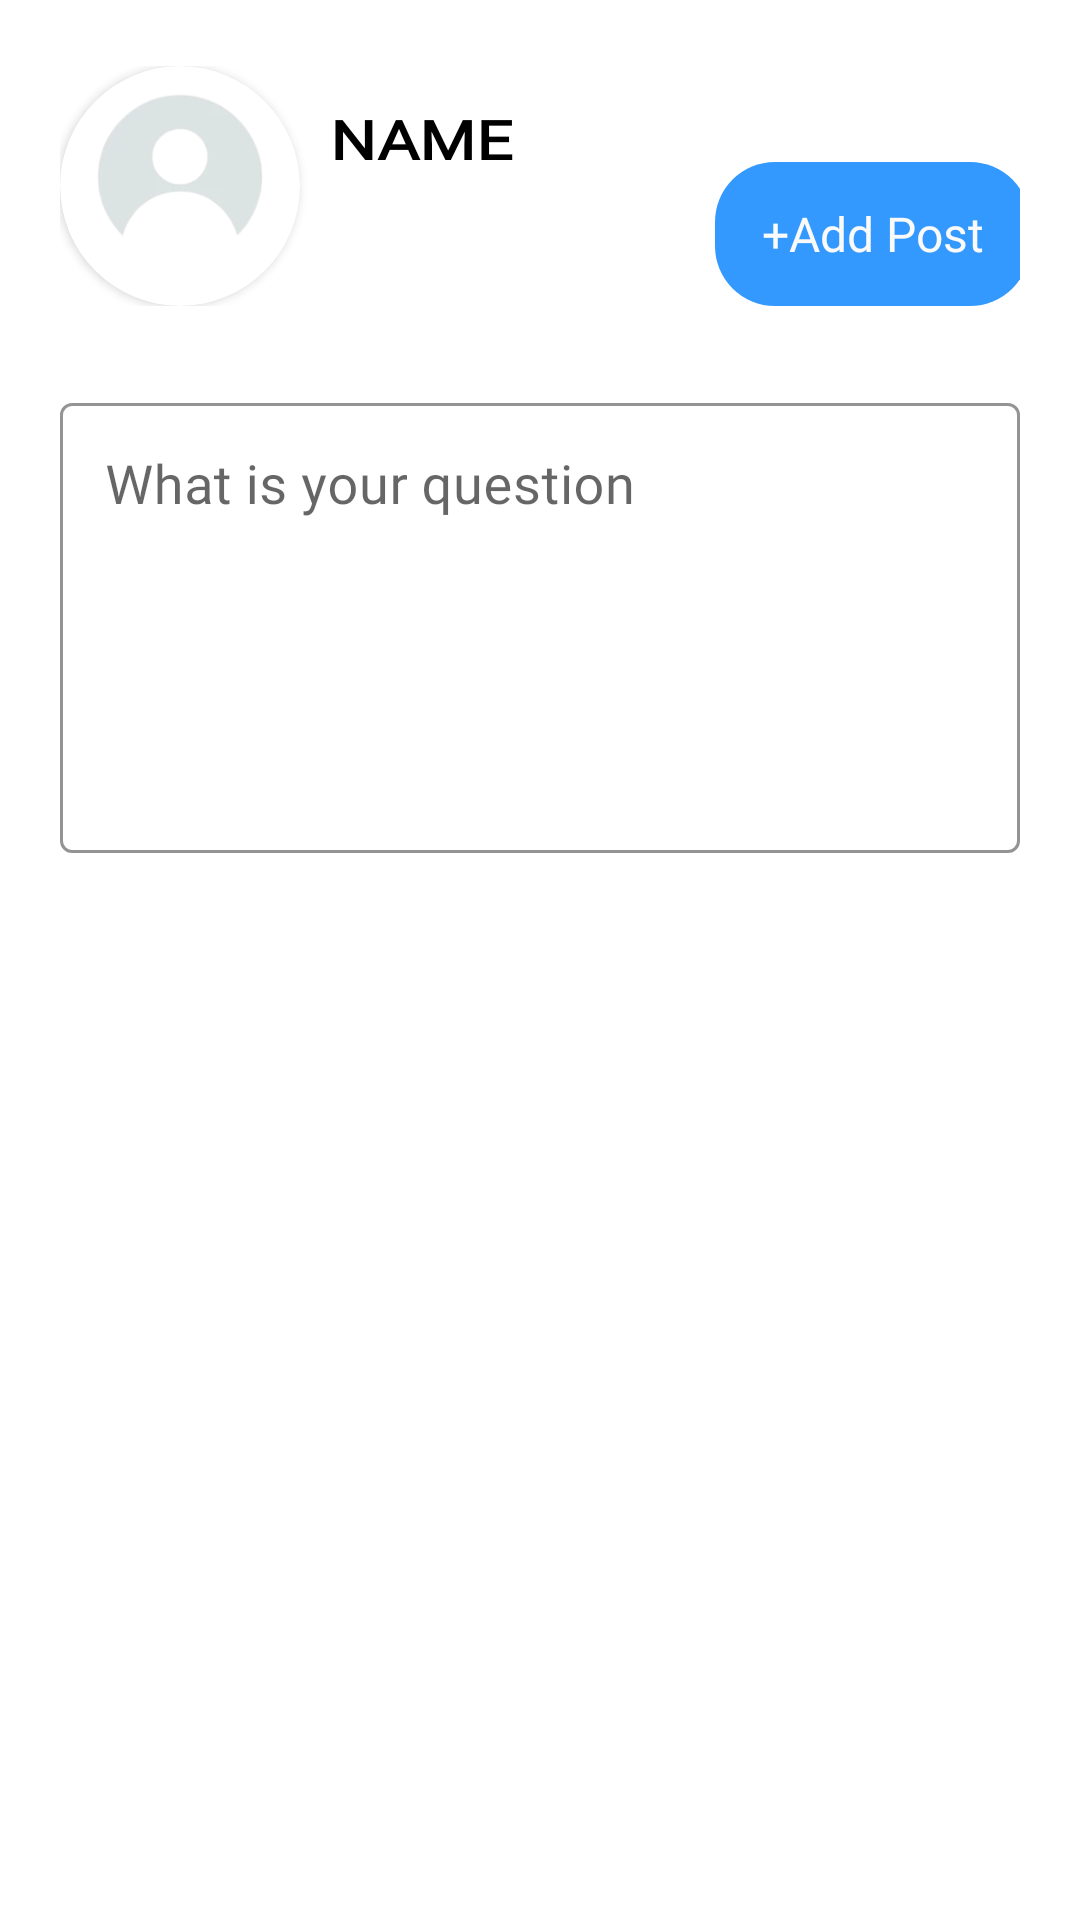

Screen size 1080px x 1920px. Icon name, then its box in pixels as box(x1, y1, x2, y2):
profile: box(60, 95, 262, 261)
